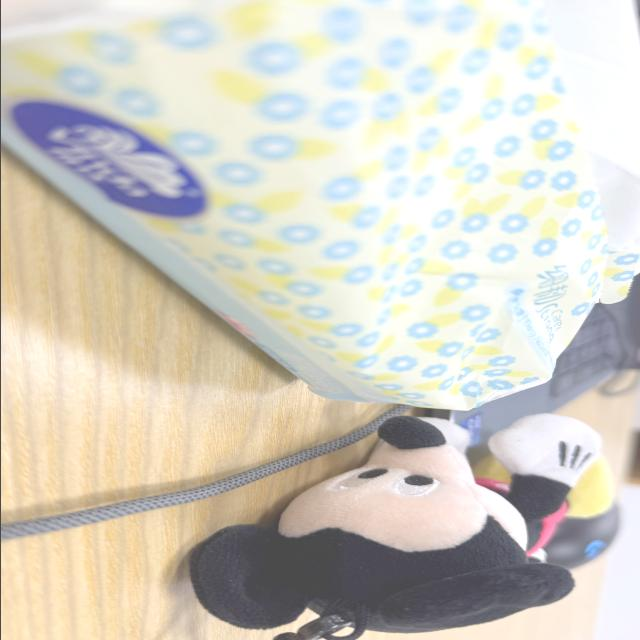mickey: (190, 415, 598, 638)
tissue: (1, 0, 640, 411)
